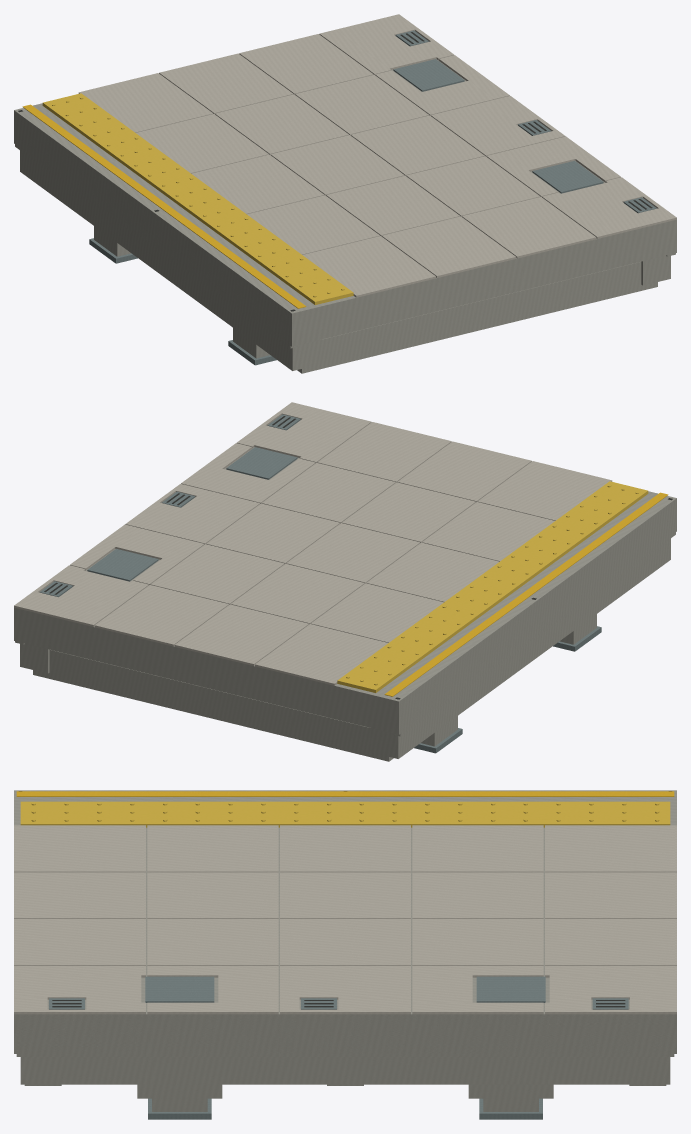
3 renders of one model, top to bottom at view 1: azimuth 30°, elevation 25°; view 2: azimuth 150°, elevation 25°; view 3: azimuth 270°, elevation 25°, orthographic. The views are drawn at different scales.
Parts seen in each view (by area): view 1: VIS_Wearing_Paver_Slabs, VIS_Reinforced_Deck_Slab, VIS_Tactile_West_Panel, VIS_Substructure_Transverse_Beams, VIS_Recessed_Side_Fascia, VIS_Deck_Longitudinal_Beams, VIS_Canopy_Foundation_Flush_Plate, VIS_West_Warning_Line, VIS_Support_Pedestals, VIS_Back_Drain_Sump, VIS_Pedestal_Base_Shoes, VIS_Tactile_West_Raised_Domes; view 2: VIS_Wearing_Paver_Slabs, VIS_Reinforced_Deck_Slab, VIS_Tactile_West_Panel, VIS_Substructure_Transverse_Beams, VIS_Recessed_Side_Fascia, VIS_Deck_Longitudinal_Beams, VIS_Canopy_Foundation_Flush_Plate, VIS_West_Warning_Line, VIS_Support_Pedestals, VIS_Back_Drain_Sump, VIS_Pedestal_Base_Shoes, VIS_Tactile_West_Raised_Domes; view 3: VIS_Wearing_Paver_Slabs, VIS_Reinforced_Deck_Slab, VIS_Recessed_Side_Fascia, VIS_Deck_Longitudinal_Beams, VIS_Tactile_West_Panel, VIS_West_Warning_Line, VIS_Canopy_Foundation_Flush_Plate, VIS_Canopy_Foundation_Block, VIS_Support_Pedestals, VIS_Pedestal_Base_Shoes, VIS_Back_Drain_Sump, VIS_Tactile_West_Raised_Domes.
Part boxes in pixels (x1=…): VIS_Wearing_Paver_Slabs: x1=78, y1=14, x2=676, y2=297; VIS_Reinforced_Deck_Slab: x1=14, y1=59, x2=676, y2=346; VIS_Tactile_West_Panel: x1=42, y1=93, x2=353, y2=304; VIS_Substructure_Transverse_Beams: x1=297, y1=261, x2=657, y2=373; VIS_Recessed_Side_Fascia: x1=15, y1=114, x2=675, y2=348; VIS_Deck_Longitudinal_Beams: x1=20, y1=150, x2=670, y2=370; VIS_Canopy_Foundation_Flush_Plate: x1=393, y1=59, x2=603, y2=193; VIS_West_Warning_Line: x1=22, y1=104, x2=306, y2=308; VIS_Support_Pedestals: x1=94, y1=226, x2=269, y2=358; VIS_Back_Drain_Sump: x1=395, y1=30, x2=656, y2=213; VIS_Pedestal_Base_Shoes: x1=89, y1=238, x2=276, y2=365; VIS_Tactile_West_Raised_Domes: x1=52, y1=97, x2=344, y2=297; VIS_Wearing_Paver_Slabs: x1=14, y1=402, x2=612, y2=685; VIS_Reinforced_Deck_Slab: x1=14, y1=447, x2=676, y2=734; VIS_Tactile_West_Panel: x1=337, y1=481, x2=648, y2=692; VIS_Substructure_Transverse_Beams: x1=33, y1=649, x2=393, y2=761; VIS_Recessed_Side_Fascia: x1=15, y1=500, x2=675, y2=736; VIS_Deck_Longitudinal_Beams: x1=20, y1=538, x2=670, y2=758; VIS_Canopy_Foundation_Flush_Plate: x1=87, y1=447, x2=297, y2=581; VIS_West_Warning_Line: x1=384, y1=492, x2=668, y2=696; VIS_Support_Pedestals: x1=421, y1=614, x2=596, y2=746; VIS_Back_Drain_Sump: x1=39, y1=414, x2=300, y2=597; VIS_Pedestal_Base_Shoes: x1=414, y1=626, x2=601, y2=753; VIS_Tactile_West_Raised_Domes: x1=346, y1=485, x2=638, y2=685; VIS_Wearing_Paver_Slabs: x1=14, y1=825, x2=676, y2=1014; VIS_Reinforced_Deck_Slab: x1=14, y1=790, x2=676, y2=1053; VIS_Recessed_Side_Fascia: x1=16, y1=1016, x2=674, y2=1056; VIS_Deck_Longitudinal_Beams: x1=20, y1=1057, x2=670, y2=1084; VIS_Tactile_West_Panel: x1=20, y1=801, x2=670, y2=827; VIS_West_Warning_Line: x1=16, y1=791, x2=674, y2=796; VIS_Canopy_Foundation_Flush_Plate: x1=145, y1=976, x2=545, y2=1002; VIS_Canopy_Foundation_Block: x1=137, y1=1084, x2=553, y2=1098; VIS_Support_Pedestals: x1=152, y1=1098, x2=538, y2=1111; VIS_Pedestal_Base_Shoes: x1=148, y1=1098, x2=542, y2=1119; VIS_Back_Drain_Sump: x1=49, y1=998, x2=628, y2=1009; VIS_Tactile_West_Raised_Domes: x1=31, y1=802, x2=659, y2=821.
Bounding box in the file's own units: 4 × 1.01 × 5.
Materials: 6 (6 with a texture image).
